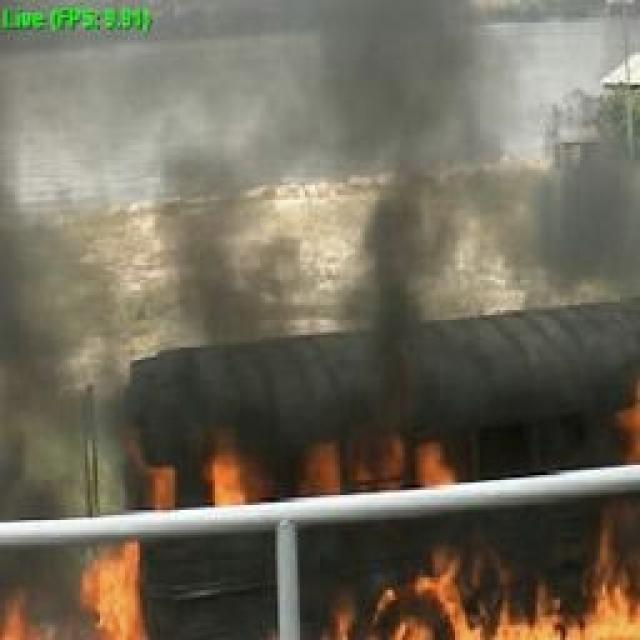fire: (310, 498, 640, 640), (2, 539, 143, 640), (199, 434, 254, 509), (132, 440, 184, 519), (350, 430, 415, 486), (293, 433, 342, 497), (416, 436, 459, 487)
